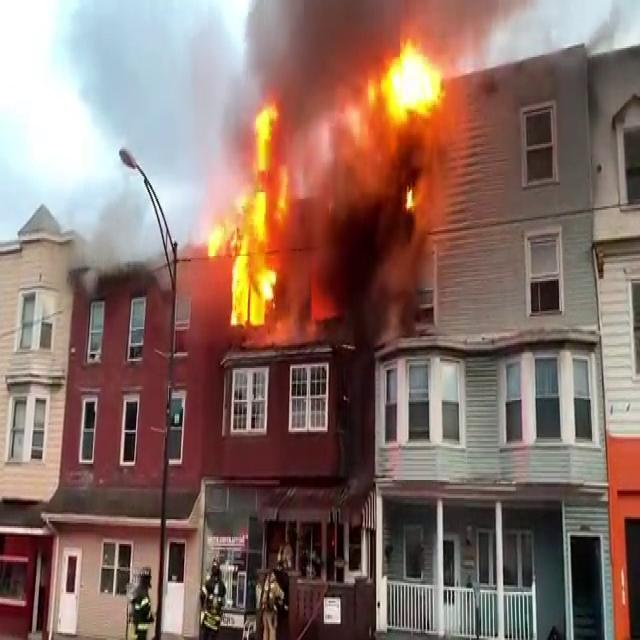Fire: (204, 98, 300, 336)
Smoke: (286, 22, 454, 330)
